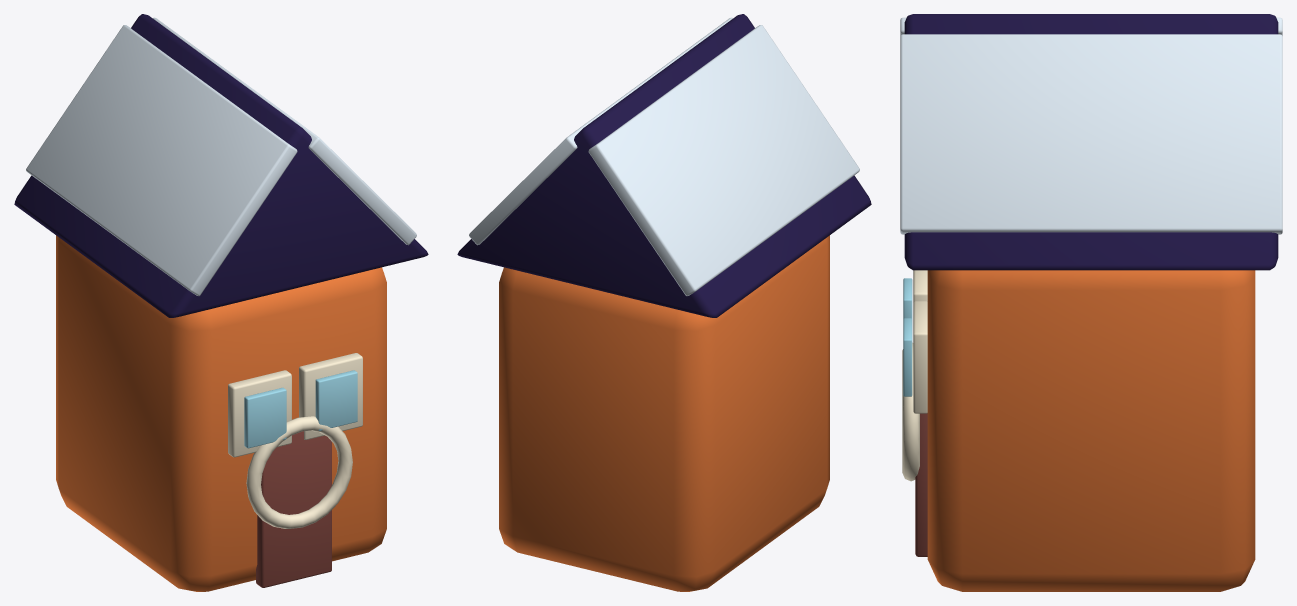
The model's file is r086_development_northern_kingdom_additions_northern_04.glb.
The picture shows the model from 3 angles, left to right: view 1: azimuth 30°, elevation 25°; view 2: azimuth 150°, elevation 25°; view 3: azimuth 270°, elevation 25°; orthographic projection. The views are drawn at different scales.
Parts seen in each view (by area): view 1: r086_development_northern_kingdom_additions_northern_04.001; view 2: r086_development_northern_kingdom_additions_northern_04.001; view 3: r086_development_northern_kingdom_additions_northern_04.001.
Part boxes in pixels (bbox=[...]): r086_development_northern_kingdom_additions_northern_04.001: bbox=[14, 14, 428, 591]; r086_development_northern_kingdom_additions_northern_04.001: bbox=[457, 14, 871, 591]; r086_development_northern_kingdom_additions_northern_04.001: bbox=[900, 14, 1282, 591].
Bounding box in the file's own units: 3.16 × 5.36 × 3.5.
